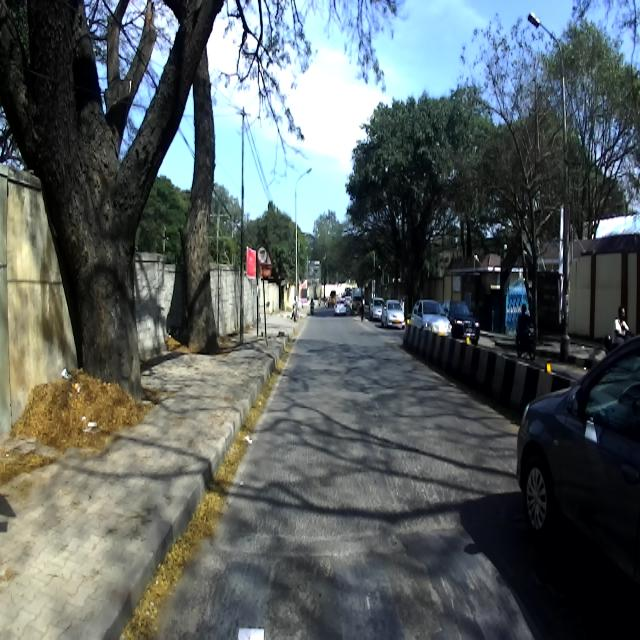tree ahead at: (2, 0, 220, 394)
